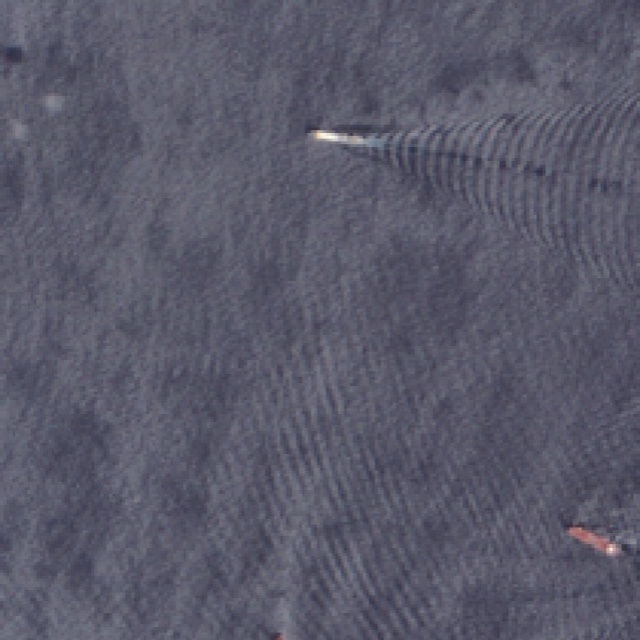wake: (296, 80, 590, 230)
